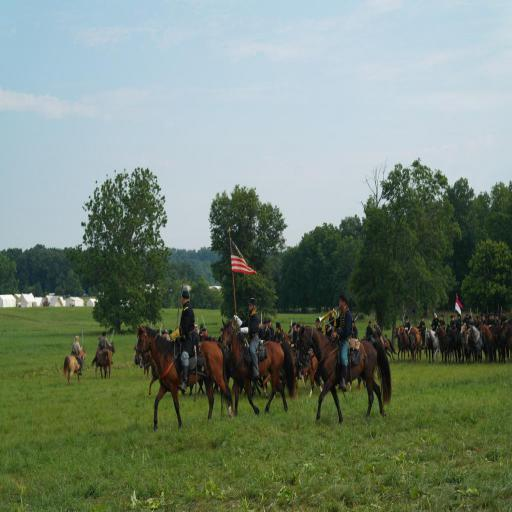horse: (132, 323, 394, 427), (390, 322, 512, 367), (90, 341, 116, 381), (62, 349, 87, 385), (95, 350, 113, 382)
